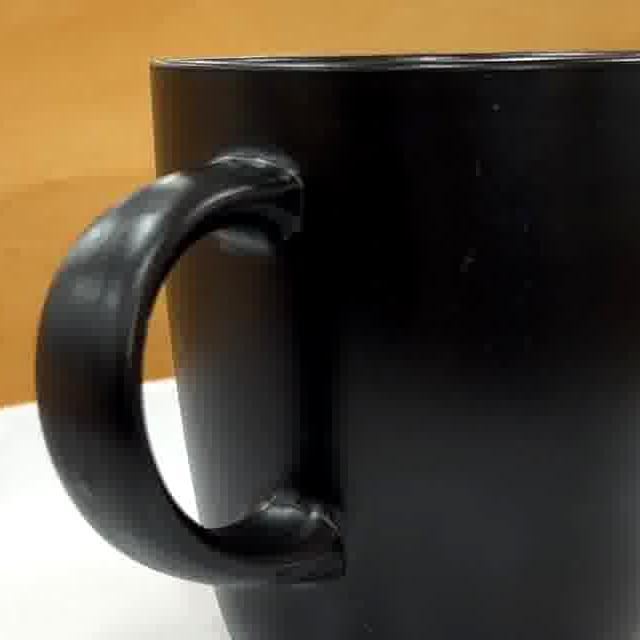cup: (37, 56, 640, 640)
